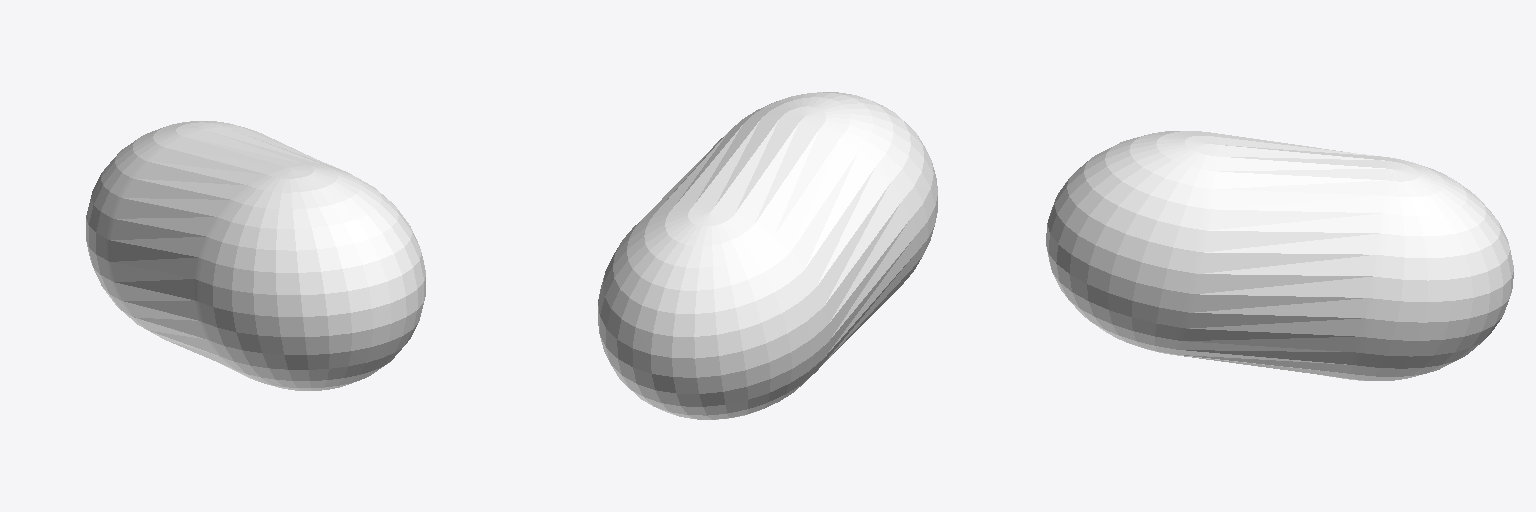
3 renders of one model, left to right at view 1: azimuth 30°, elevation 25°; view 2: azimuth 150°, elevation 25°; view 3: azimuth 270°, elevation 25°, orthographic.
Visible parts, largest first — view 1: Object017; view 2: Object017; view 3: Object017.
Part boxes in pixels (bbox=[...]): Object017: bbox=[86, 121, 425, 390]; Object017: bbox=[598, 92, 937, 419]; Object017: bbox=[1046, 131, 1513, 380].
Bounding box in the file's own units: 4.38 × 4.62 × 8.61.
Materials: 1 (1 with a texture image).